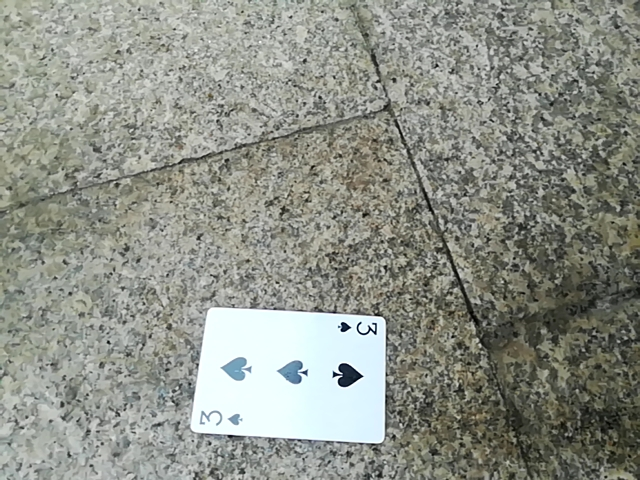ht 3: (191, 303, 383, 441)
